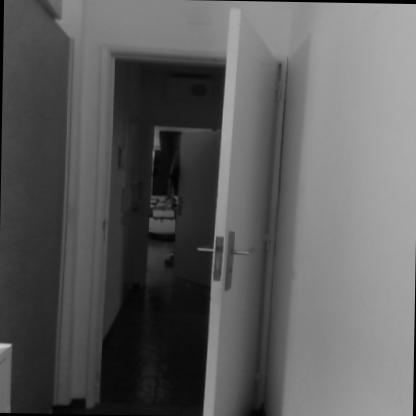open: (83, 2, 305, 416)
